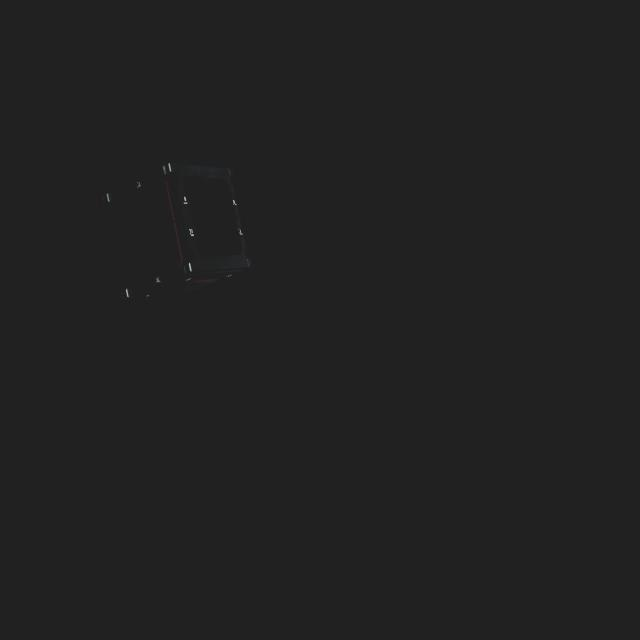satellite: (88, 156, 257, 333)
